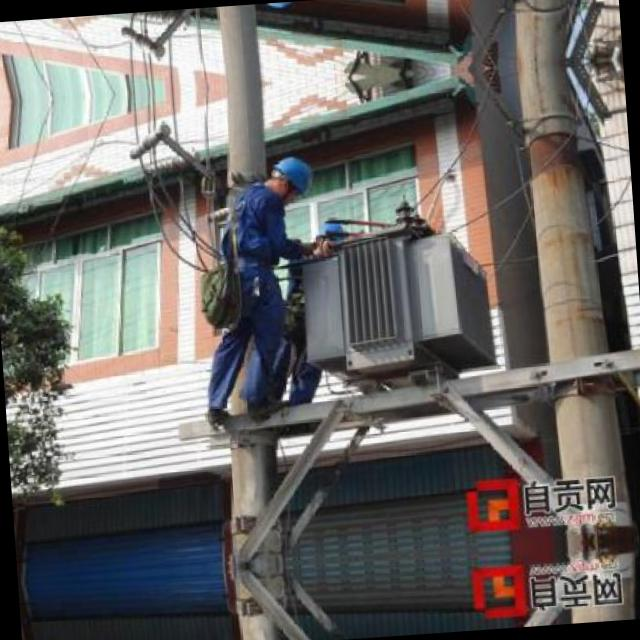helmet: (266, 156, 312, 200), (310, 217, 349, 256)
